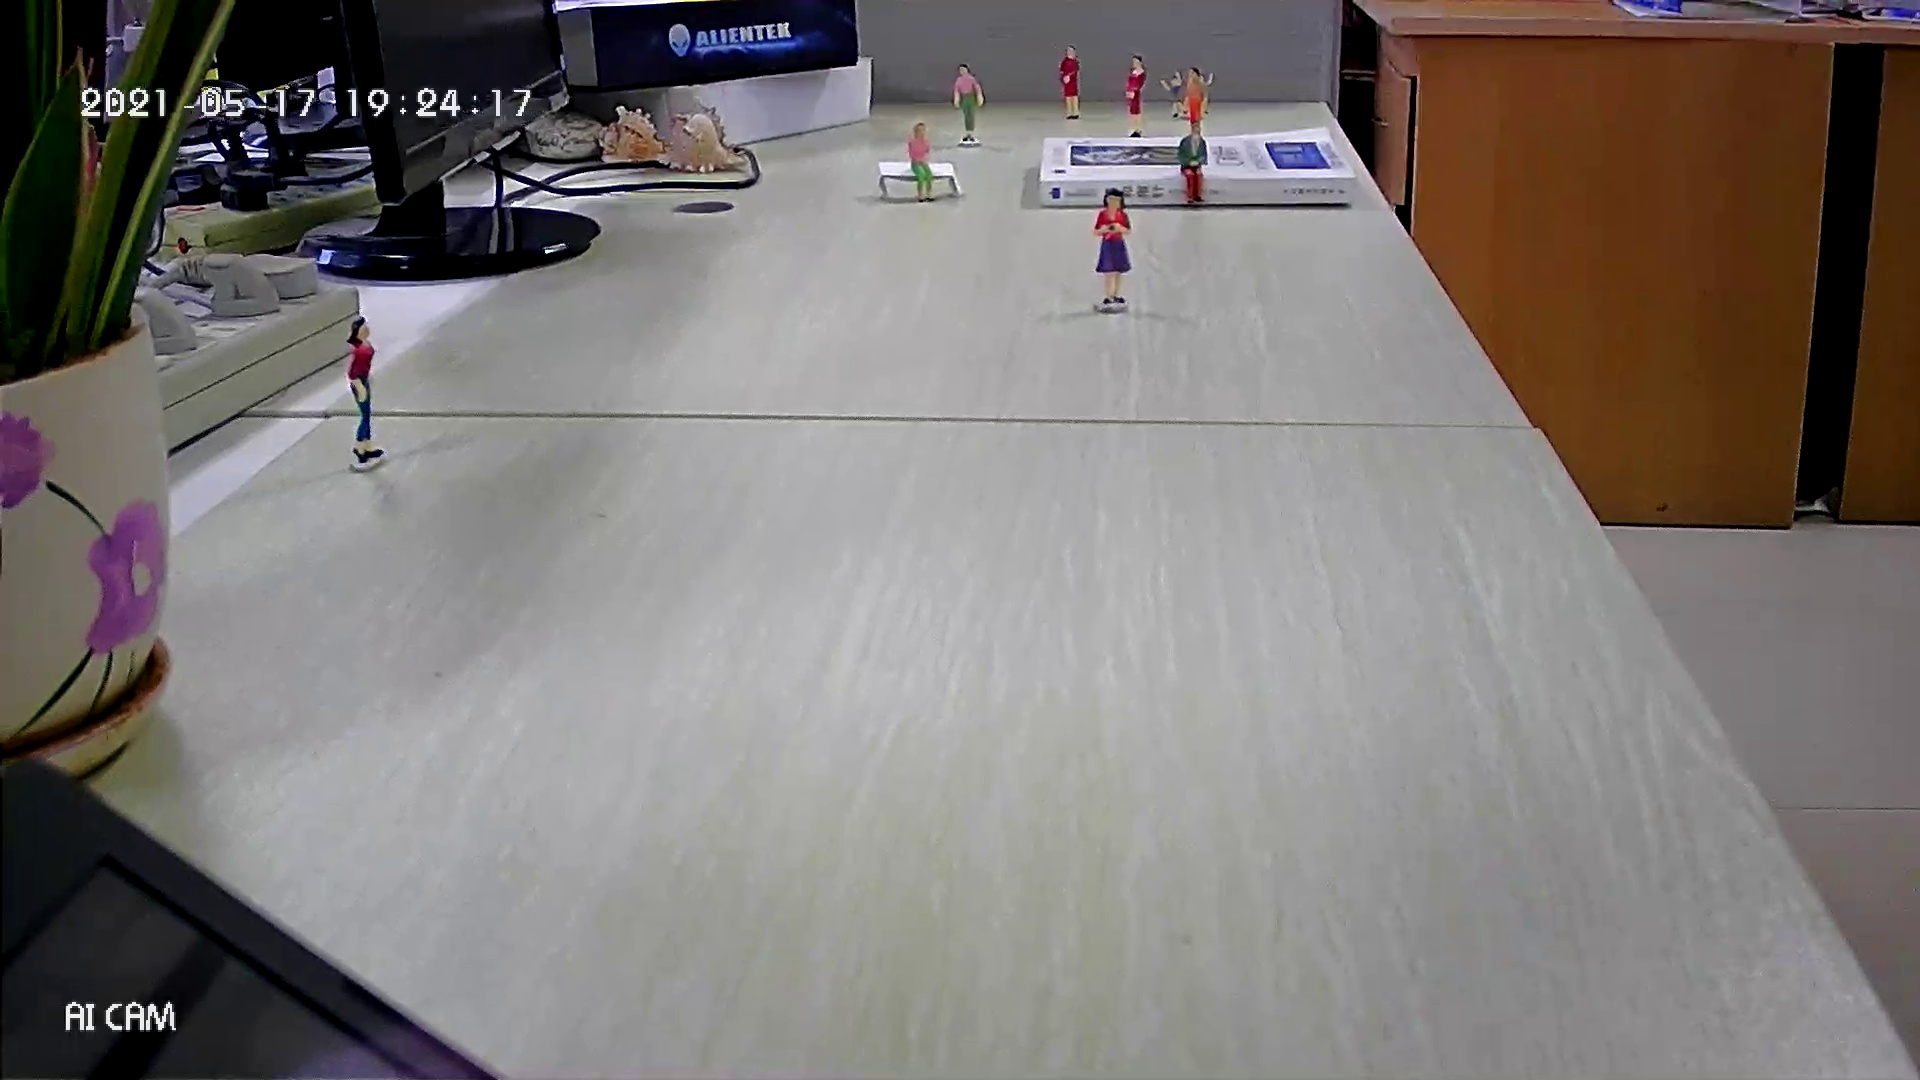person: (344, 314, 388, 465), (1090, 186, 1133, 306), (1176, 121, 1211, 210), (905, 120, 940, 204), (950, 63, 986, 143), (1121, 54, 1149, 139), (1058, 43, 1084, 123), (1181, 69, 1208, 136), (1159, 70, 1186, 121), (1195, 66, 1214, 119)
